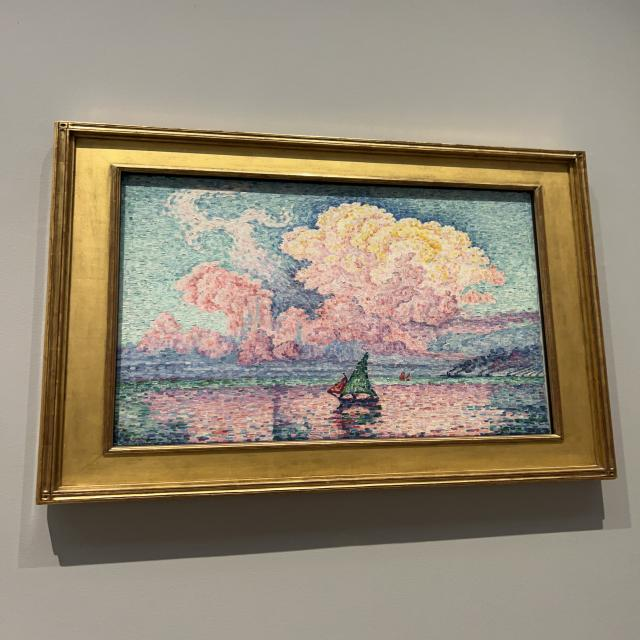sunrise: (114, 172, 553, 446)
